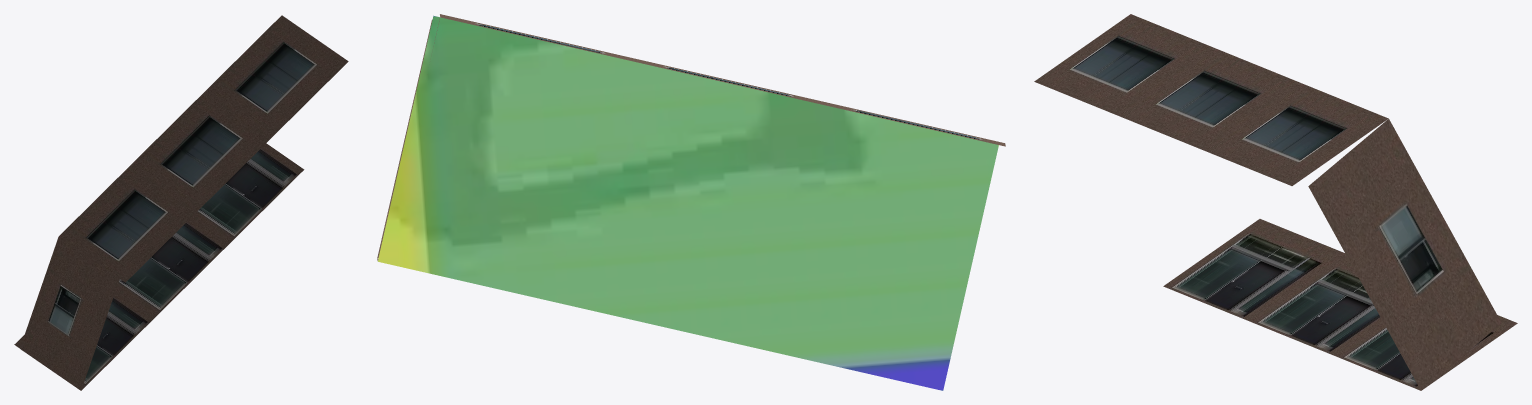
File: tile_LOD4_r12_c7.glb
3 views of the same model, side by side, from view 1: azimuth 30°, elevation 25°; view 2: azimuth 150°, elevation 25°; view 3: azimuth 270°, elevation 25° (orthographic). The views are drawn at different scales.
Bounding box in the file's own units: 18 × 12.5 × 15.
4 materials, 4 textured.
